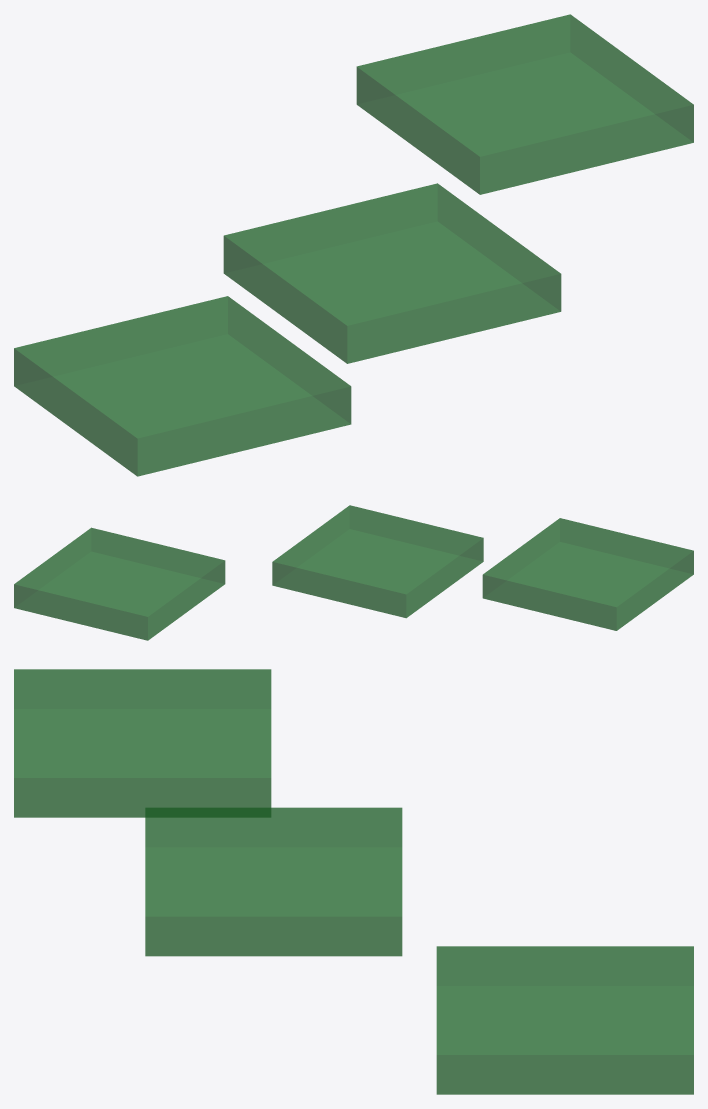
File: pattern maze_funguyz_sliders.glb
3 views of the same model, one above another, from view 1: azimuth 30°, elevation 25°; view 2: azimuth 150°, elevation 25°; view 3: azimuth 270°, elevation 25° (orthographic). The views are drawn at different scales.
Parts seen in each view (by area): view 1: Cube.001_collider.021, Cube.001_collider.020, Cube.001_collider; view 2: Cube.001_collider, Cube.001_collider.021, Cube.001_collider.020; view 3: Cube.001_collider.021, Cube.001_collider, Cube.001_collider.020.
Boxes of the visible parts, x1,y1,x2,y2 form: Cube.001_collider.021: (223, 183, 561, 363); Cube.001_collider.020: (14, 296, 351, 476); Cube.001_collider: (356, 14, 693, 194); Cube.001_collider: (14, 527, 225, 640); Cube.001_collider.021: (272, 505, 483, 618); Cube.001_collider.020: (482, 518, 693, 630); Cube.001_collider.021: (145, 807, 402, 956); Cube.001_collider: (436, 946, 693, 1094); Cube.001_collider.020: (14, 669, 271, 817).
Size of the model in its own units: 20.88 by 1 by 15.55.
Materials: 1 (1 with a texture image).
